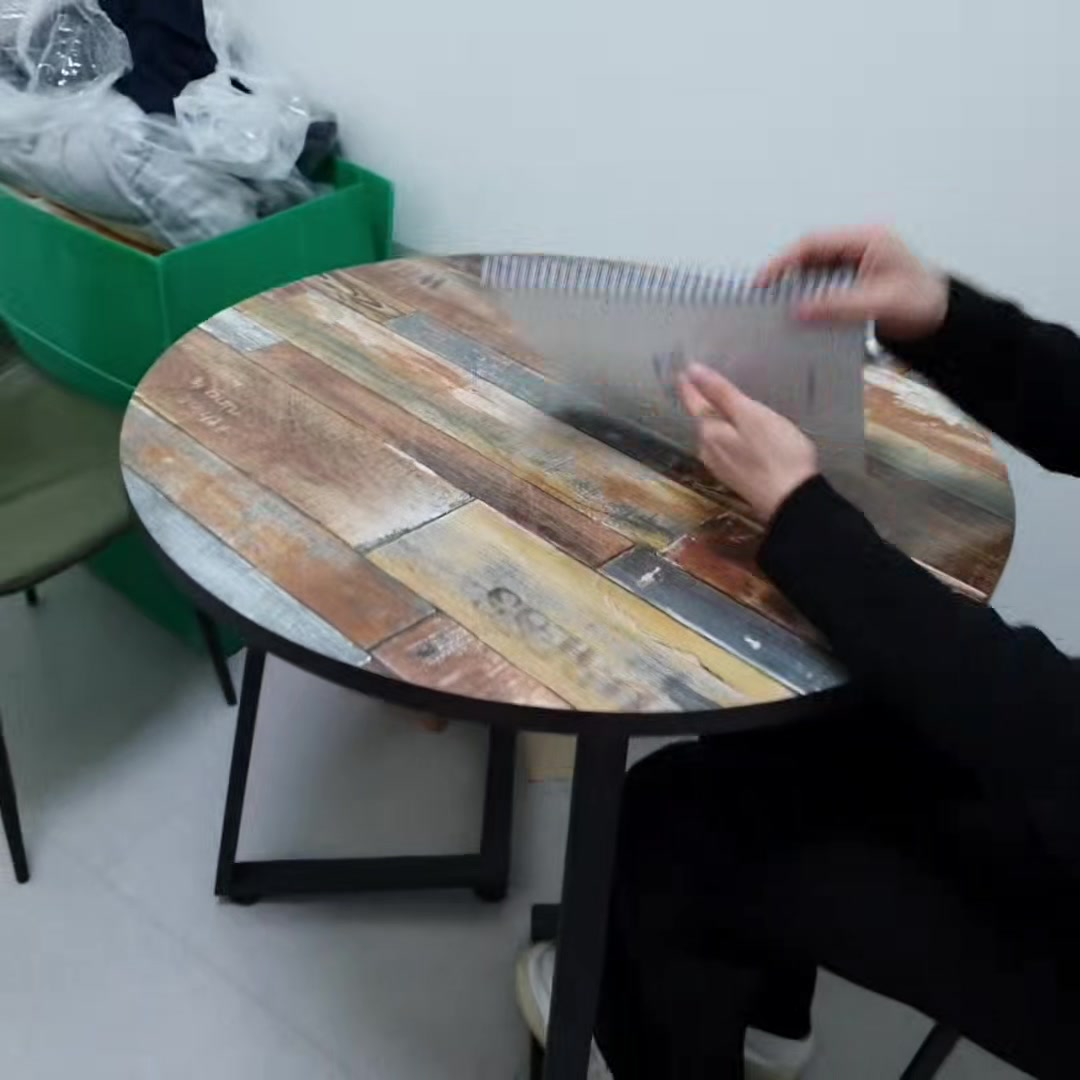book: (478, 251, 879, 496)
